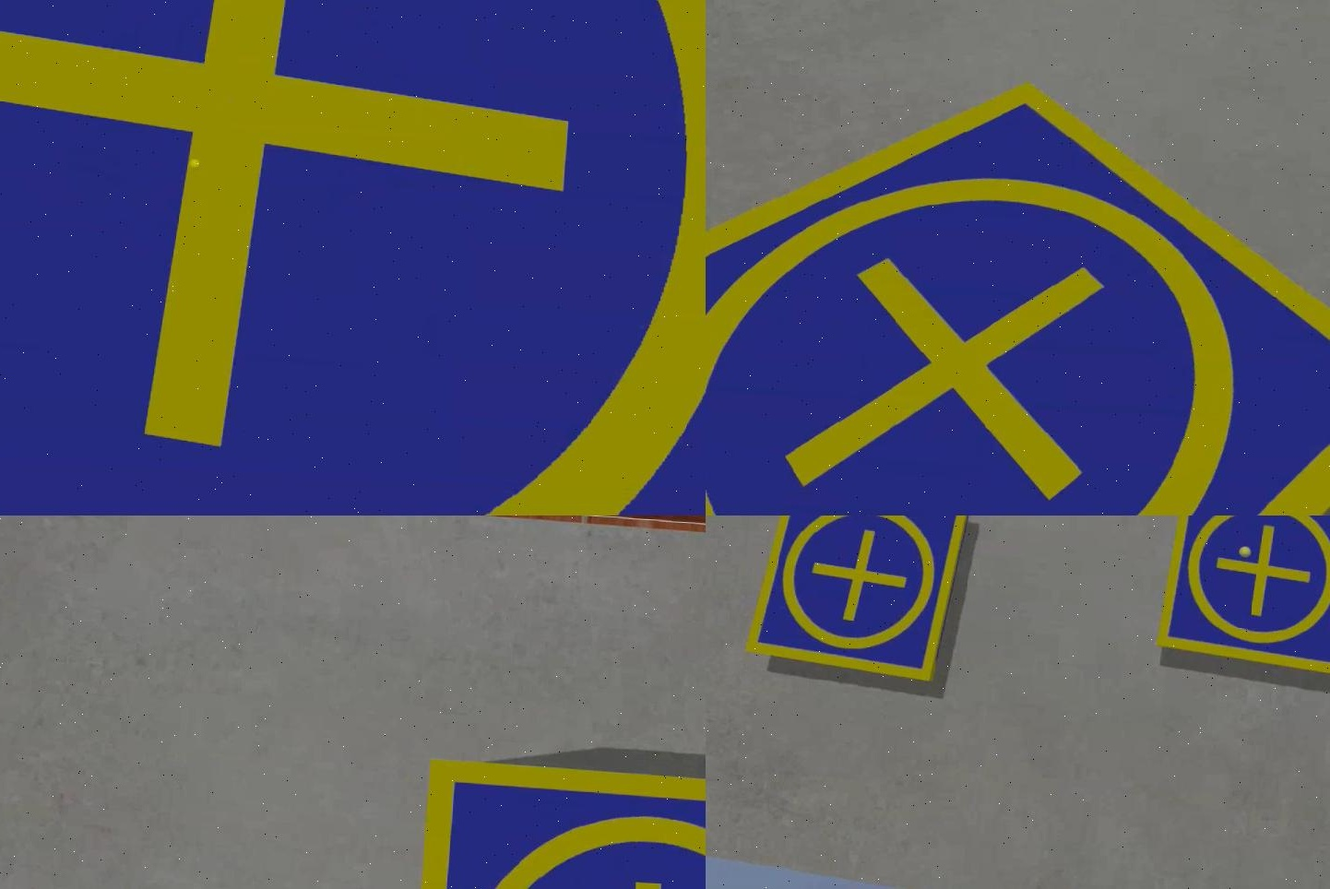small_base: (0, 1, 705, 516), (705, 49, 1328, 516), (742, 516, 973, 687), (1153, 516, 1328, 682)
